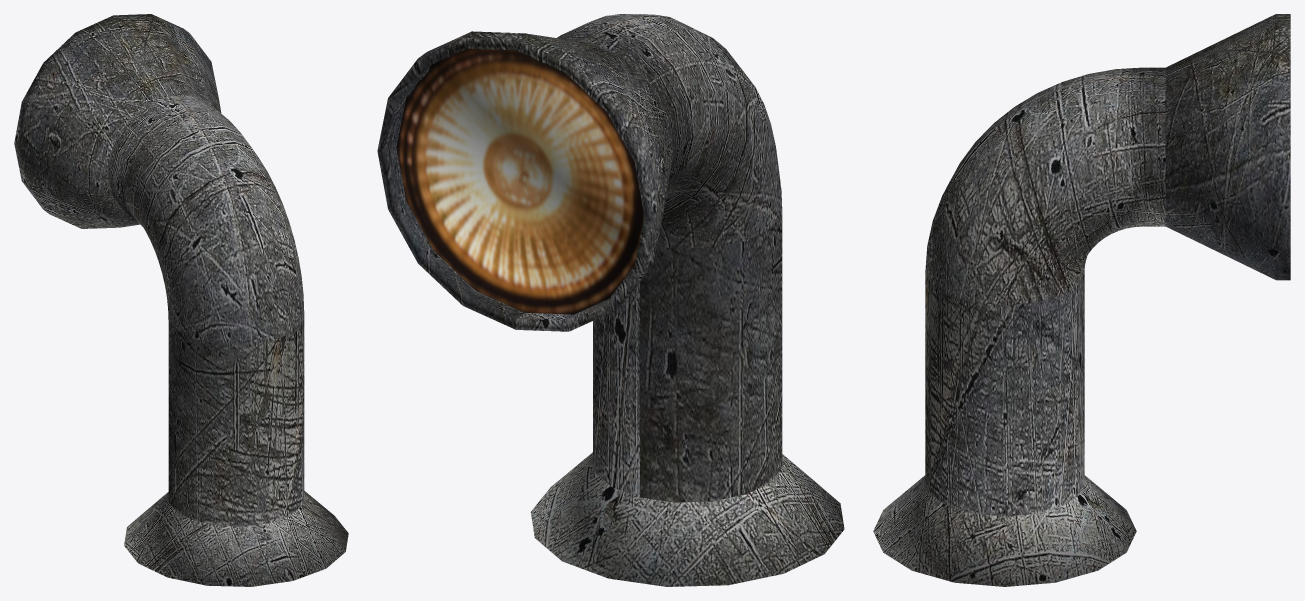
File: spotlight.obj
The picture shows the model from 3 angles, left to right: view 1: azimuth 30°, elevation 25°; view 2: azimuth 150°, elevation 25°; view 3: azimuth 270°, elevation 25°; orthographic projection. The views are drawn at different scales.
Parts seen in each view (by area): view 1: Cylinder_Cylinder.001; view 2: Cylinder_Cylinder.001; view 3: Cylinder_Cylinder.001.
Part boxes in pixels (x1,y1,x2,y2): Cylinder_Cylinder.001: (14,14,348,586); Cylinder_Cylinder.001: (377,14,844,586); Cylinder_Cylinder.001: (873,14,1290,586).
Bounding box in the file's own units: 2.16 × 4.51 × 3.38.
Materials: 1 (1 with a texture image).
